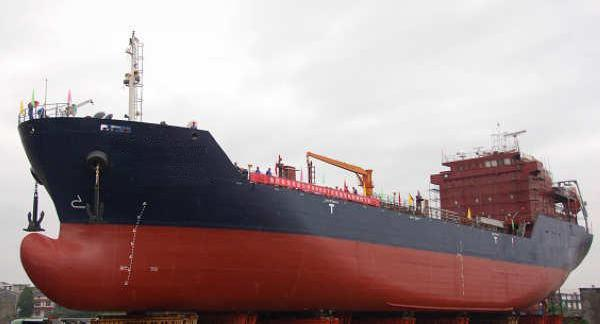Cargoship: (9, 31, 595, 305)
